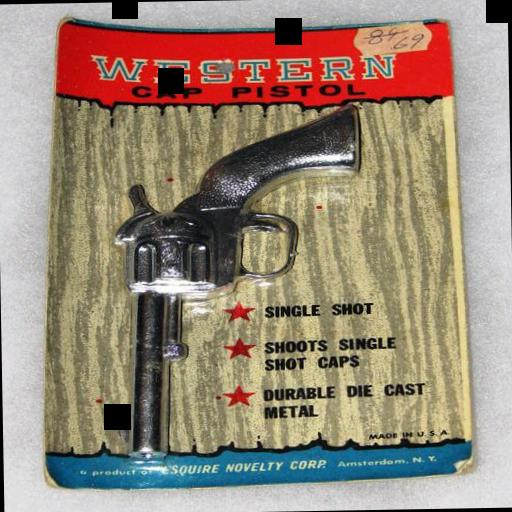Handgun: (82, 94, 376, 466)
